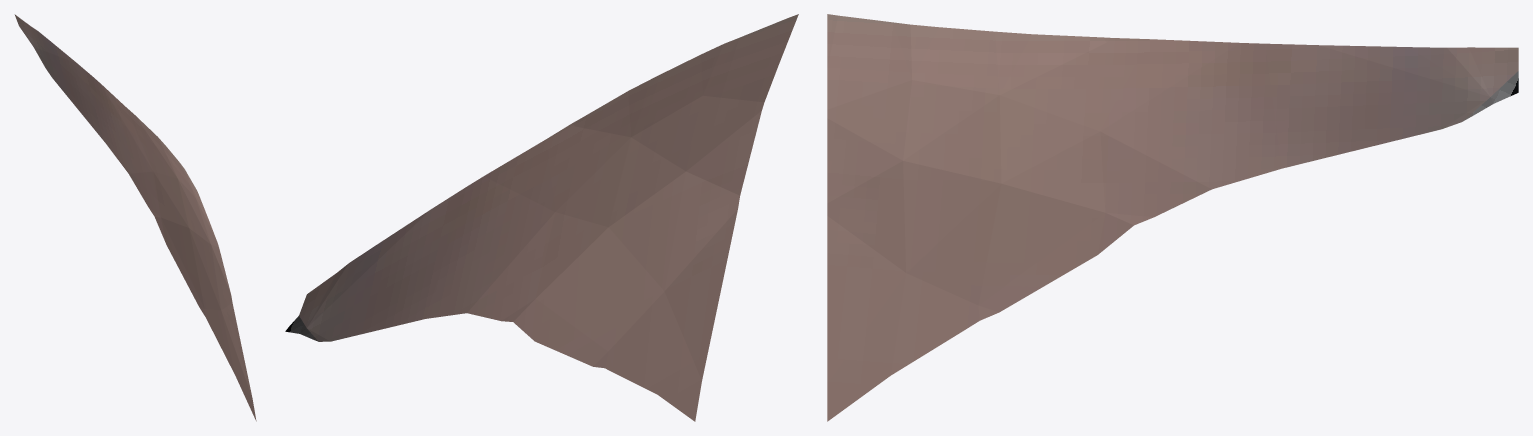
3 views of the same model, side by side, from view 1: azimuth 30°, elevation 25°; view 2: azimuth 150°, elevation 25°; view 3: azimuth 270°, elevation 25° (orthographic). The views are drawn at different scales.
Bounding box in the file's own units: 6.26 × 24.99 × 42.87.
1 material, 1 textured.
